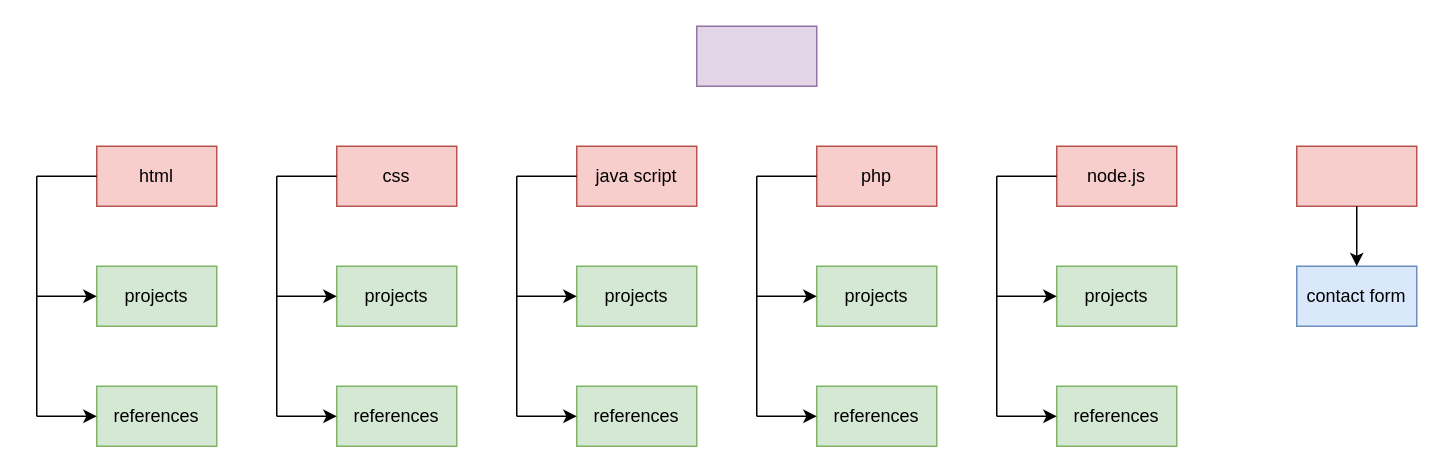
The diagram is 1443 pixels wide and 473 high, and some of its shapes have lost their labels. The centre of each missing label's shape, as x and y in pixels:
"contact" belongs at [1356,175].
"home" belongs at [756,55].
